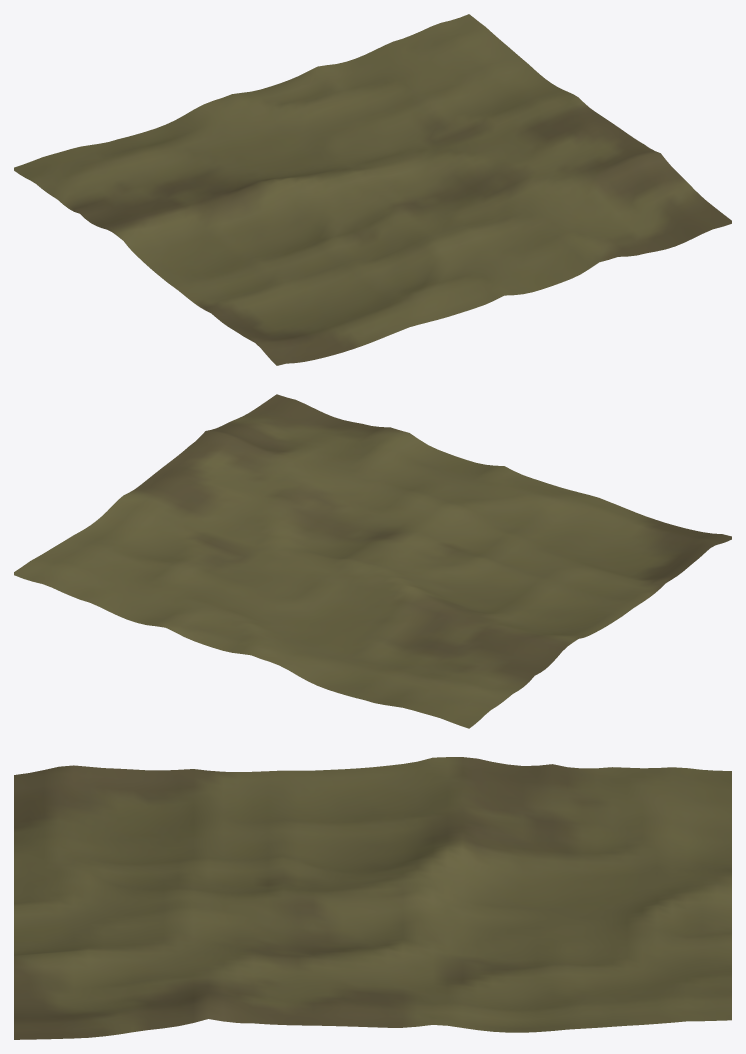
Rendered from land_m_14_01.glb.
The picture shows the model from 3 angles, top to bottom: view 1: azimuth 30°, elevation 25°; view 2: azimuth 150°, elevation 25°; view 3: azimuth 270°, elevation 25°; orthographic projection. The views are drawn at different scales.
Visible parts, largest first — view 1: land_m_14_01; view 2: land_m_14_01; view 3: land_m_14_01.
Boxes of the visible parts, box(x1,y1,x2,y2) form: land_m_14_01: box(14, 14, 731, 365); land_m_14_01: box(14, 394, 731, 728); land_m_14_01: box(14, 757, 731, 1039).
Bounding box in the file's own units: 960 × 109 × 960.
